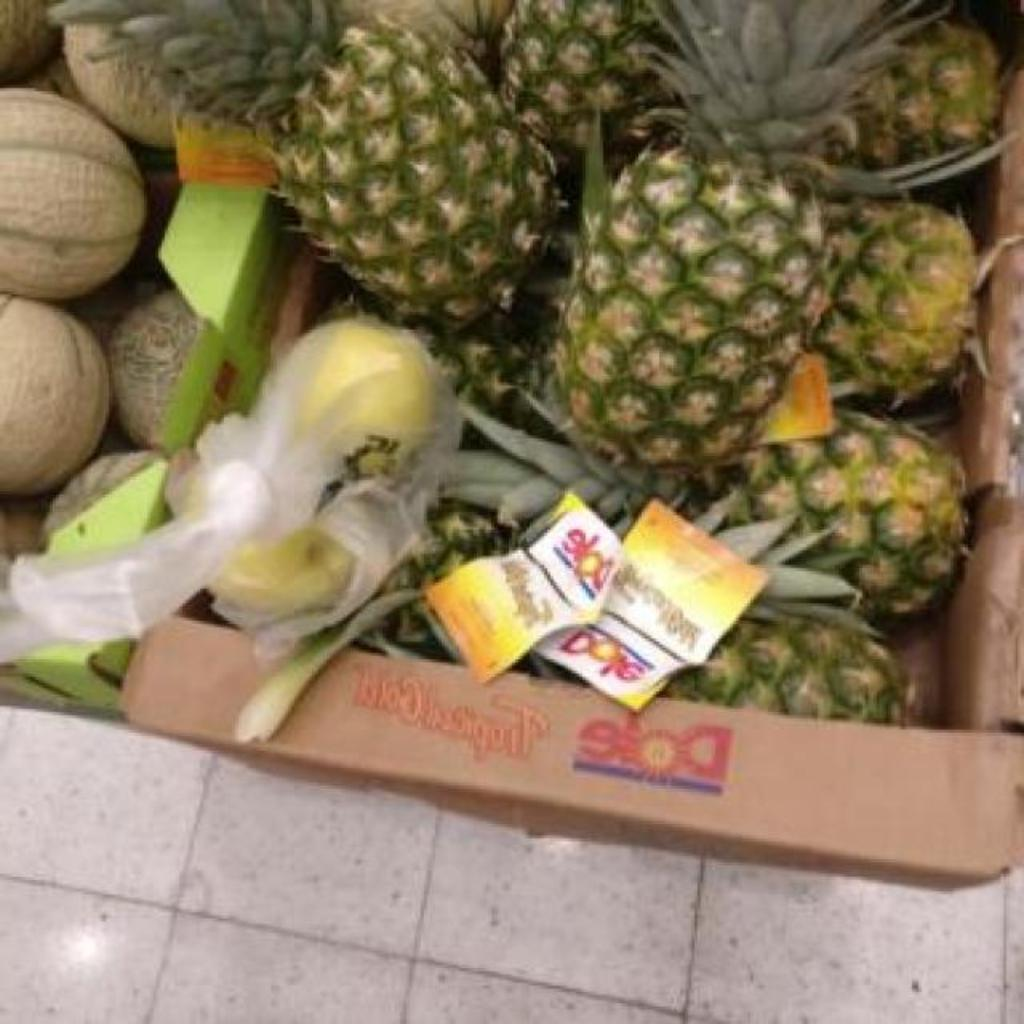pineapple: (556, 2, 922, 467), (58, 0, 558, 329), (748, 410, 964, 615), (816, 206, 1023, 403), (668, 618, 900, 722), (502, 0, 650, 148), (856, 24, 998, 167)
